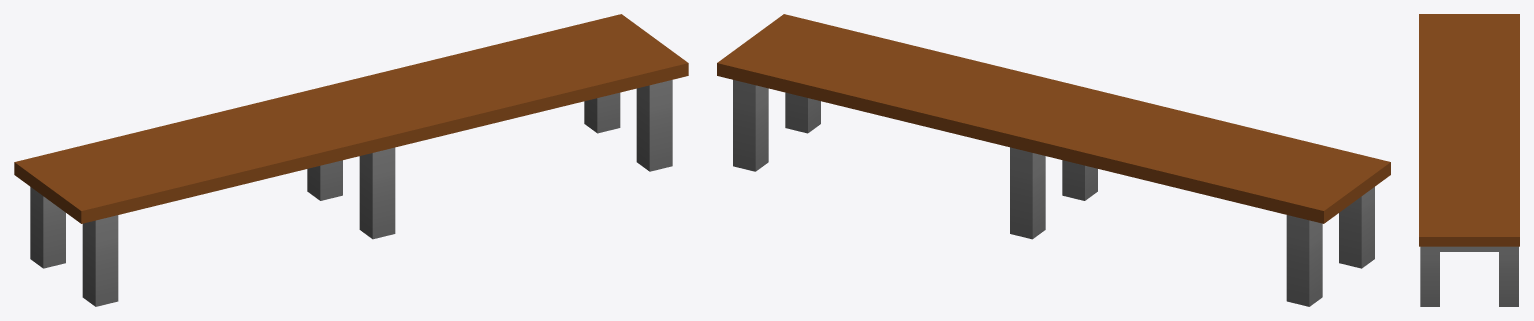
Rendered from Bench_1_A_7.fbx.
3 renders of one model, left to right at view 1: azimuth 30°, elevation 25°; view 2: azimuth 150°, elevation 25°; view 3: azimuth 270°, elevation 25°, orthographic. The views are drawn at different scales.
Visible parts, largest first — view 1: Bench_1_A_7; view 2: Bench_1_A_7; view 3: Bench_1_A_7.
Part boxes in pixels (bbox=[...]): Bench_1_A_7: bbox=[14, 14, 688, 306]; Bench_1_A_7: bbox=[717, 14, 1390, 306]; Bench_1_A_7: bbox=[1419, 14, 1519, 306].
Size of the model in its own units: 213 by 33.54 by 40.68.
